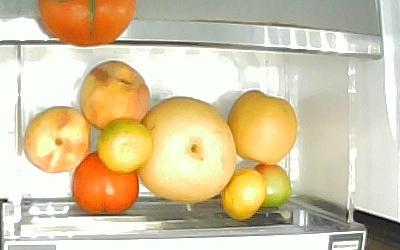peach: (78, 58, 150, 129), (23, 104, 90, 173)
pear: (135, 94, 236, 201), (226, 88, 297, 165)
tangerine: (95, 117, 154, 172), (219, 167, 266, 221)
tomato: (71, 148, 140, 215), (252, 162, 292, 207)
